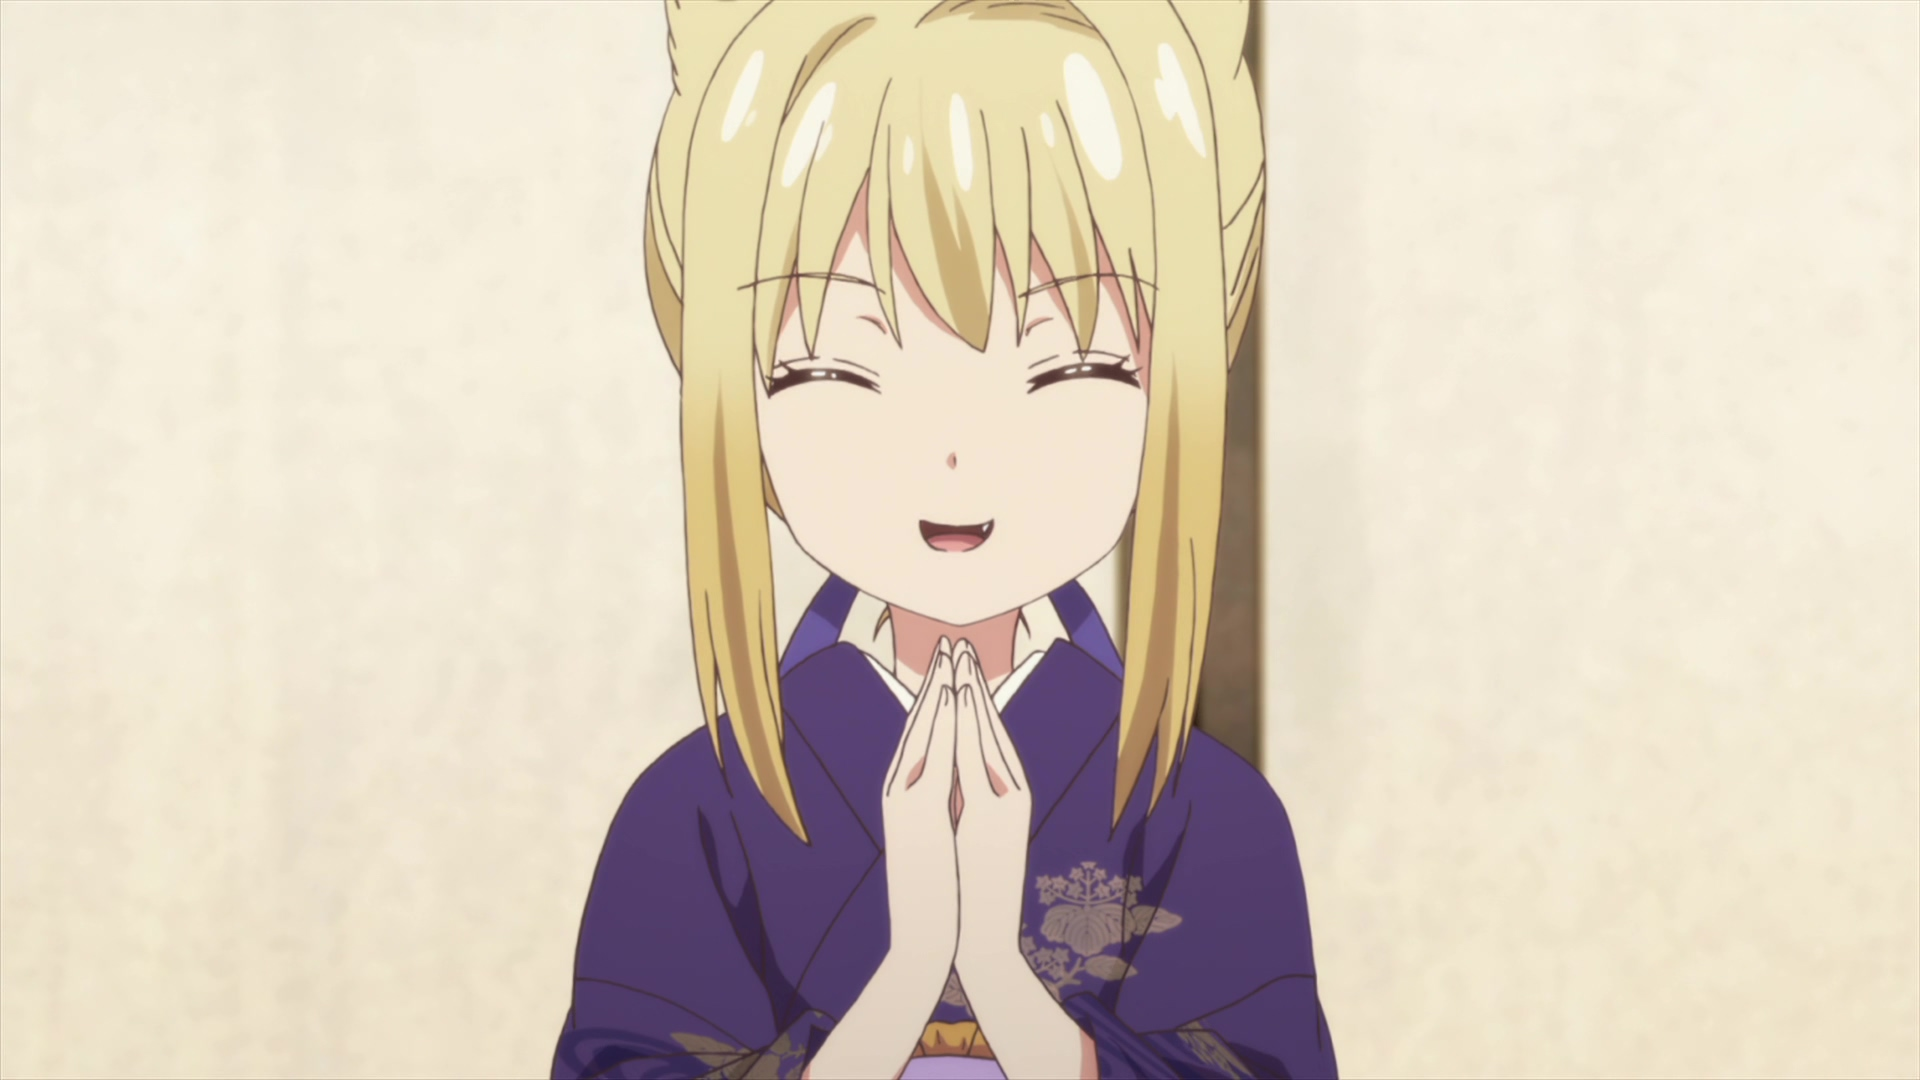桐: (549, 1, 1337, 1080)
